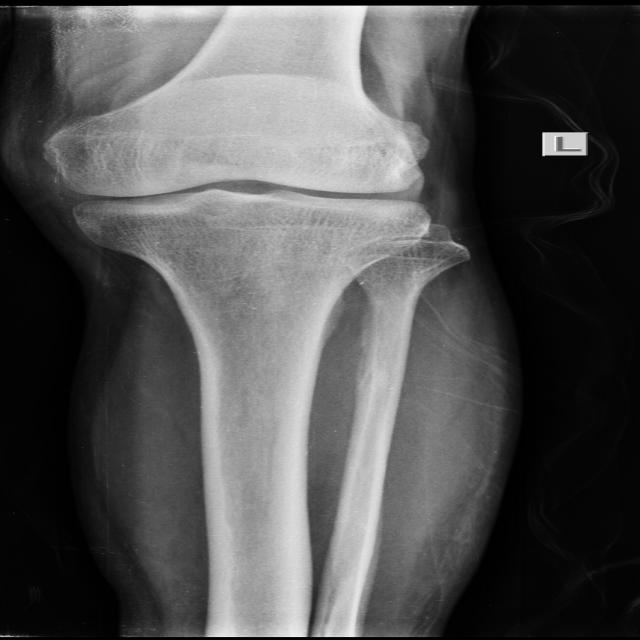normal: (44, 118, 438, 236)
